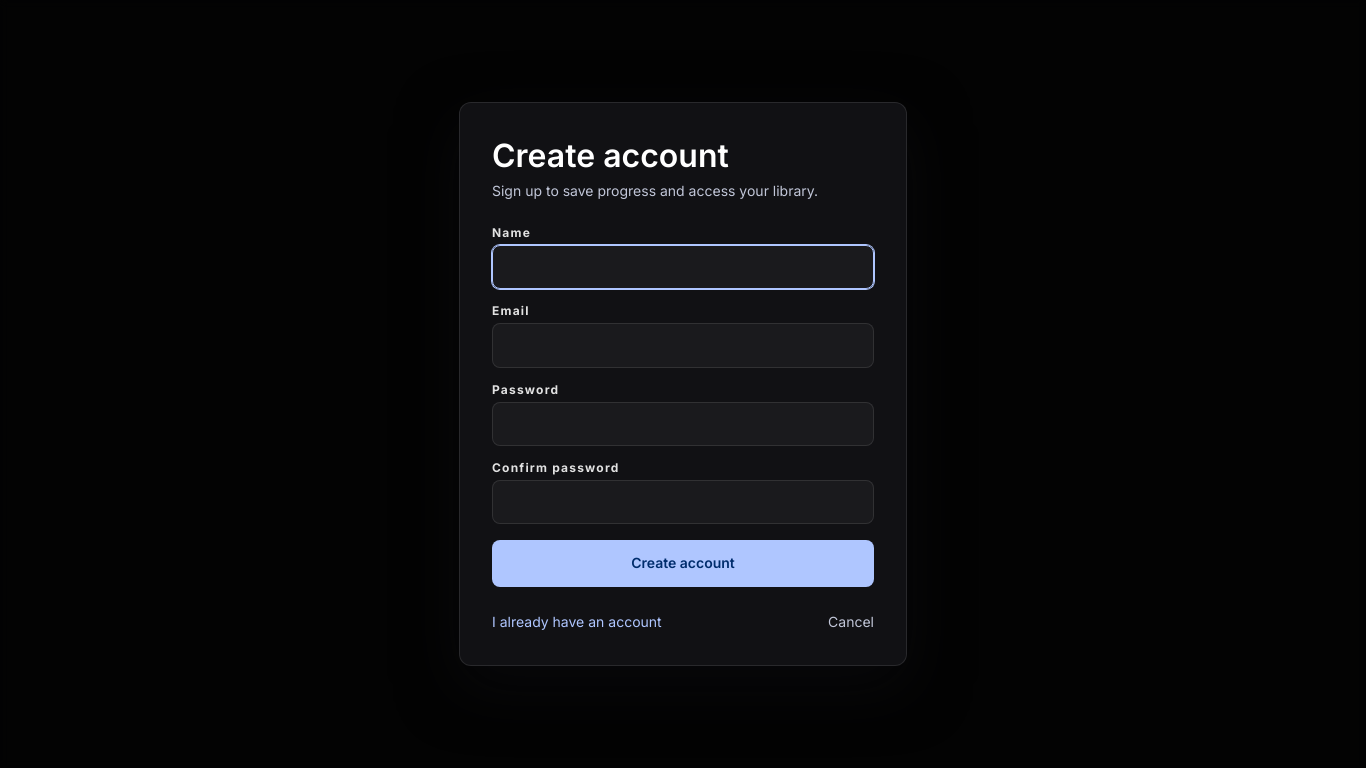
Test: SignUpDialog › validates name, email, and password minimums
Click the button "Create account": (683, 564) [492,540,874,587]
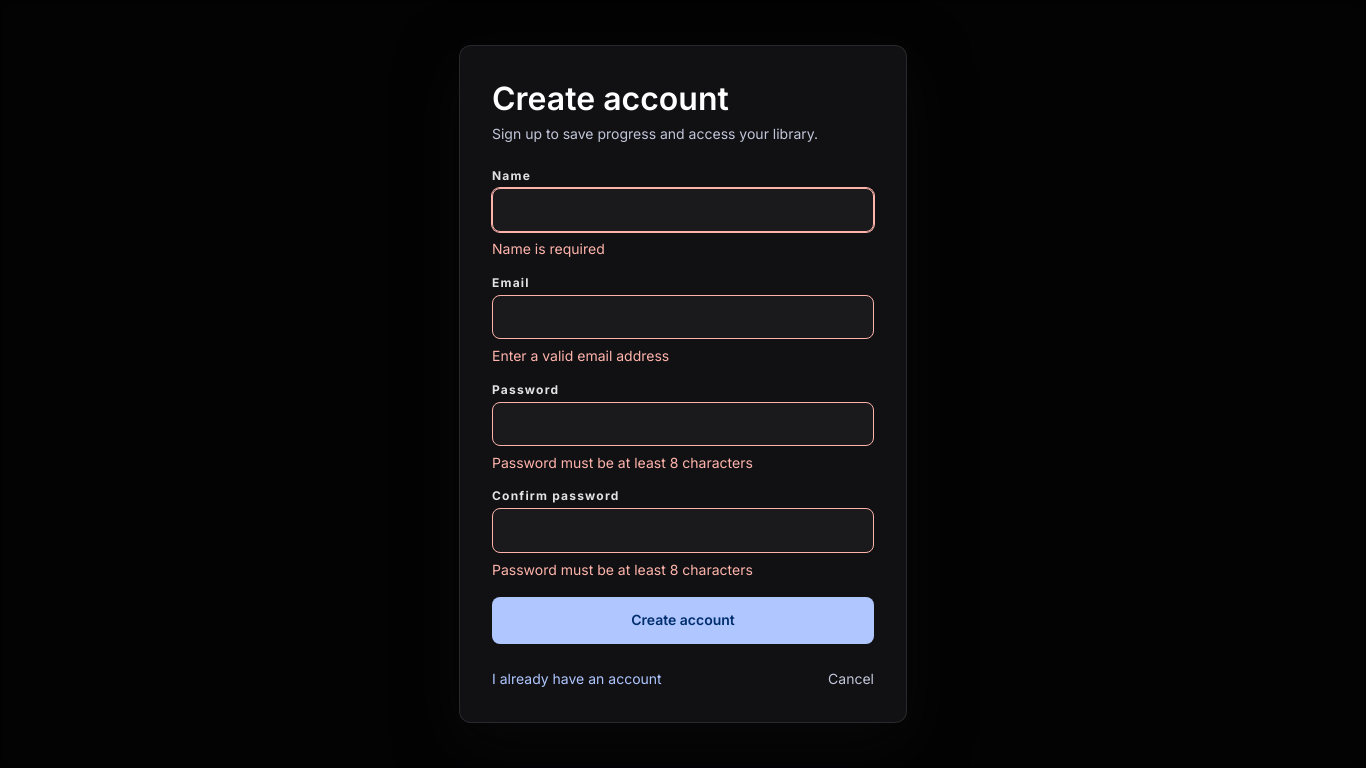
Result: the text "Name is required" is shown at [492,240,605,257]
Result: the text "Enter a valid email address" is shown at [492,347,669,364]
